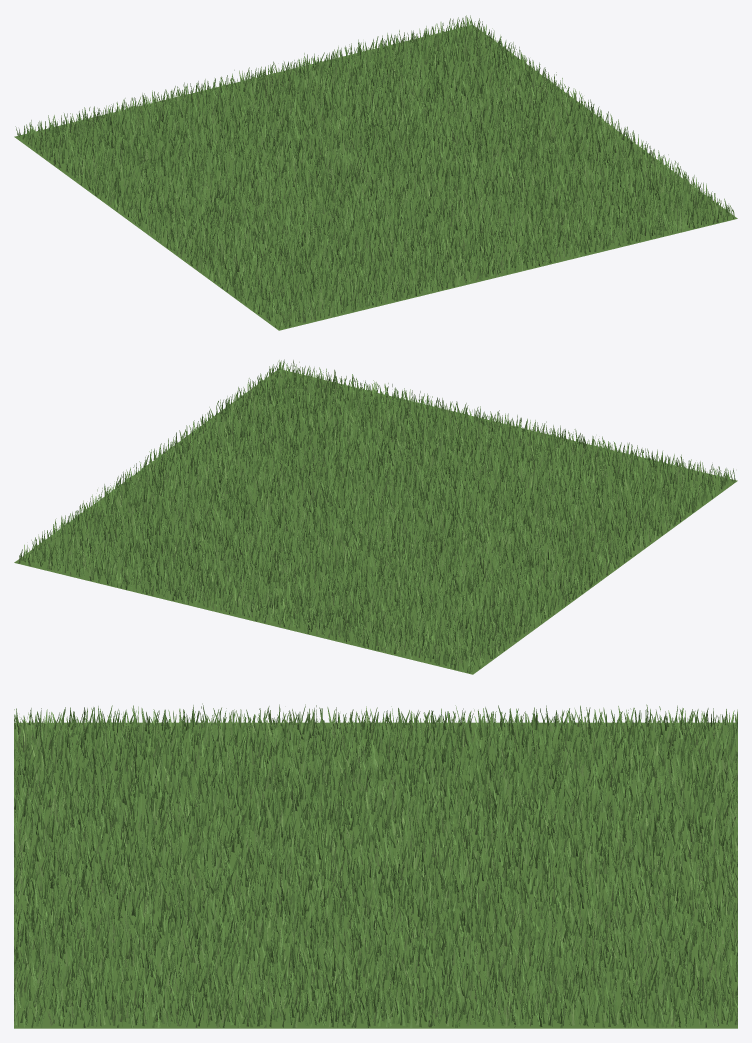
File: grass_4m_webxr_wind_realism_v1_4.glb
3 renders of one model, top to bottom at view 1: azimuth 30°, elevation 25°; view 2: azimuth 150°, elevation 25°; view 3: azimuth 270°, elevation 25°, orthographic. The views are drawn at different scales.
Visible parts, largest first — view 1: Grass_Blades_4m, Ground_4m_x_4m; view 2: Grass_Blades_4m, Ground_4m_x_4m; view 3: Grass_Blades_4m, Ground_4m_x_4m.
Boxes of the visible parts, x1,y1,x2,y2 form: Grass_Blades_4m: (15, 15, 735, 328); Ground_4m_x_4m: (14, 25, 737, 330); Grass_Blades_4m: (18, 359, 735, 673); Ground_4m_x_4m: (14, 370, 737, 674); Grass_Blades_4m: (14, 703, 737, 1027); Ground_4m_x_4m: (14, 722, 737, 1028).
Bounding box in the file's own units: 4 × 0.118 × 4.
